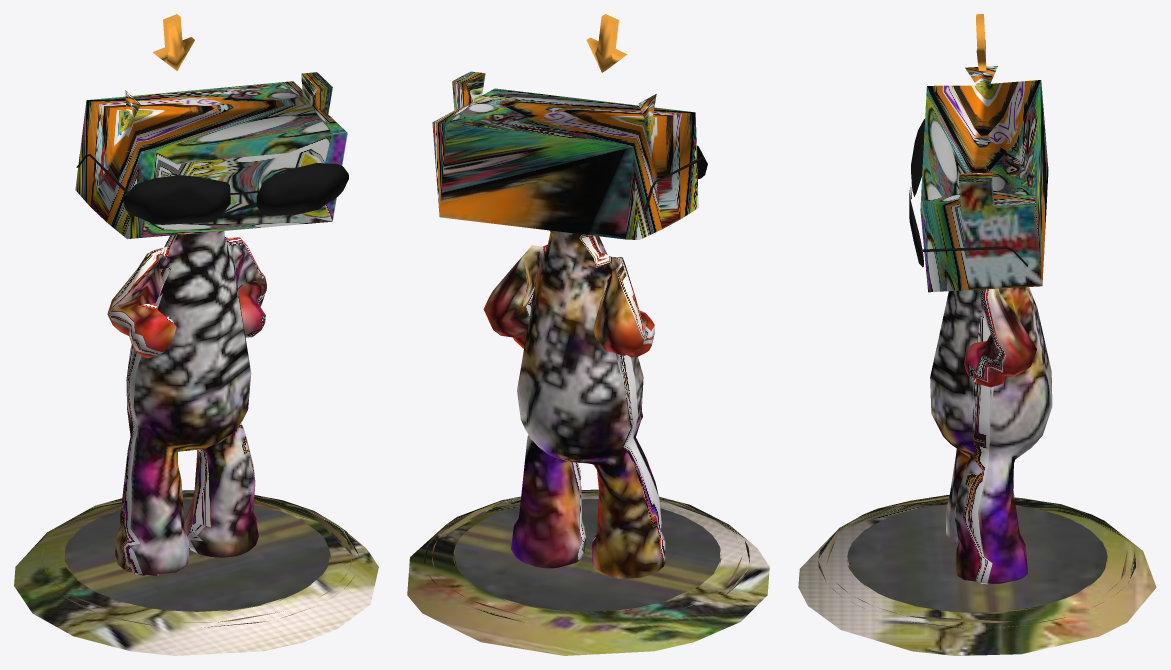
3 views of the same model, side by side, from view 1: azimuth 30°, elevation 25°; view 2: azimuth 150°, elevation 25°; view 3: azimuth 270°, elevation 25° (orthographic). The views are drawn at different scales.
Size of the model in its own units: 1.44 by 2.46 by 1.44.
6 materials, 5 textured.
